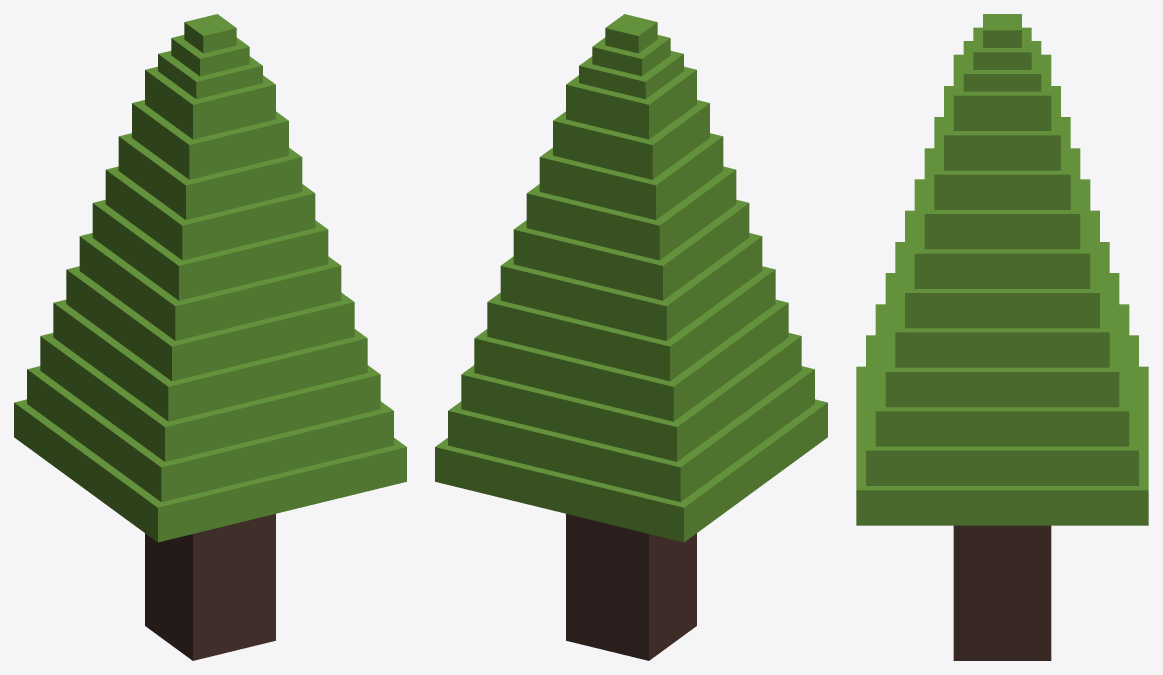
Rendered from Plants2-2-Tree2.obj.
3 views of the same model, side by side, from view 1: azimuth 30°, elevation 25°; view 2: azimuth 150°, elevation 25°; view 3: azimuth 270°, elevation 25° (orthographic).
Visible parts, largest first — view 1: Tree2; view 2: Tree2; view 3: Tree2.
Part boxes in pixels (x1,y1,x2,y2): Tree2: [14, 14, 406, 660]; Tree2: [435, 14, 827, 660]; Tree2: [856, 14, 1148, 660].
Size of the model in its own units: 3 by 7 by 3.
Materials: 1 (1 with a texture image).
